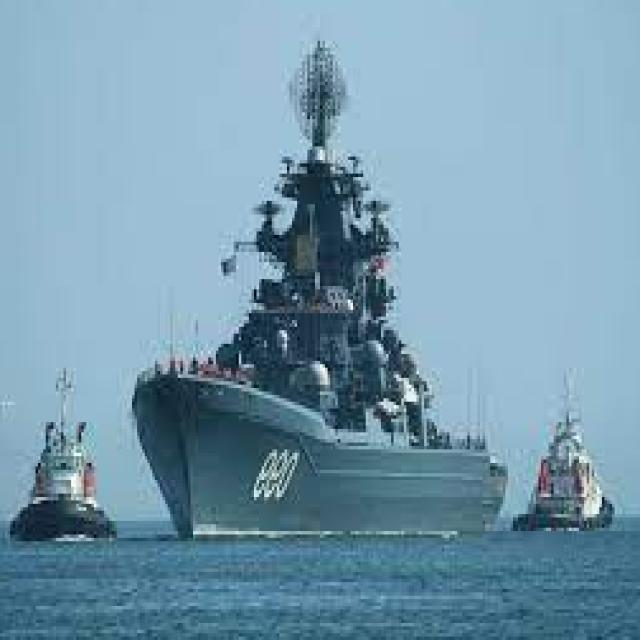navalvessels: (144, 57, 508, 556), (6, 371, 123, 536), (527, 381, 602, 535)
